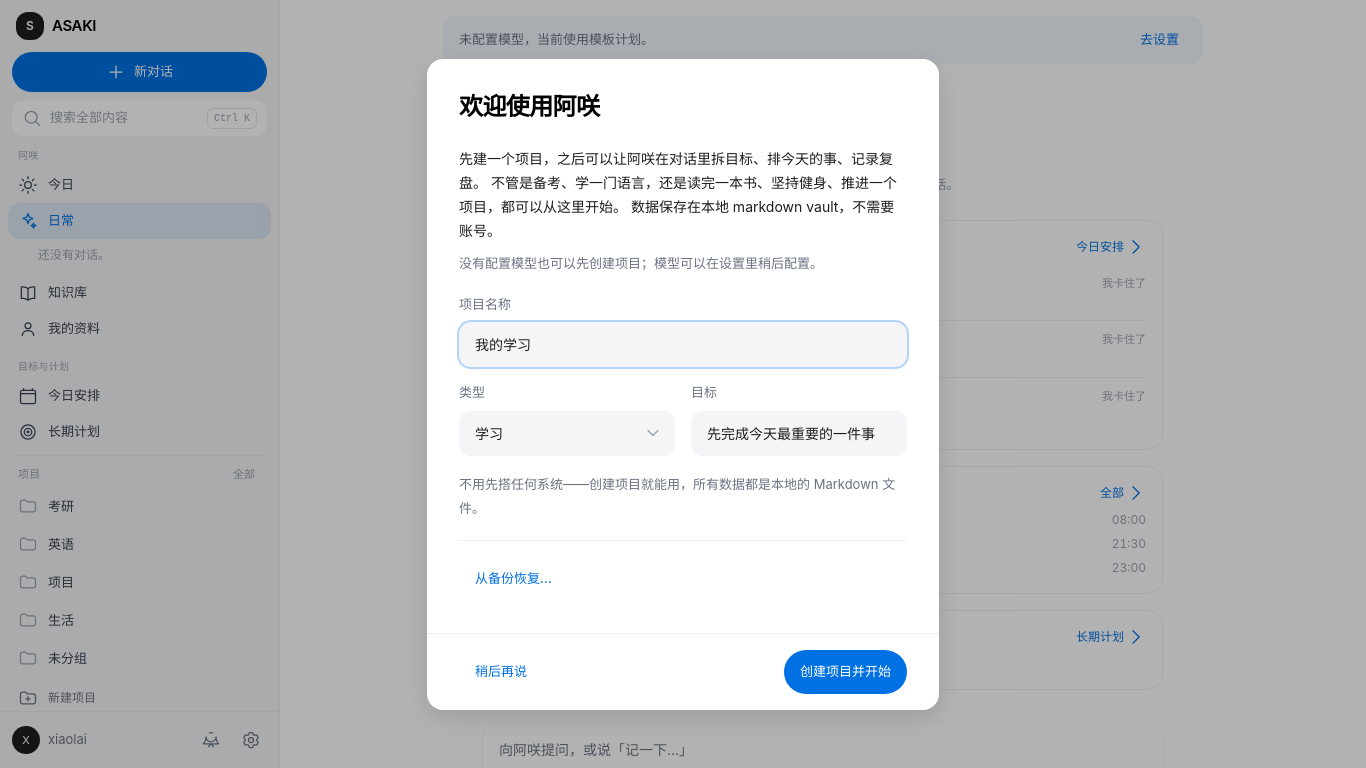
Test: creates the first workspace without requiring a model
Expected: the heading "欢迎使用阿咲" is shown, [459,92,599,120]
Replace the text in the field labelled "项目名称" with "我的项目". click: point(683, 344)
box: [459,322,907,367]
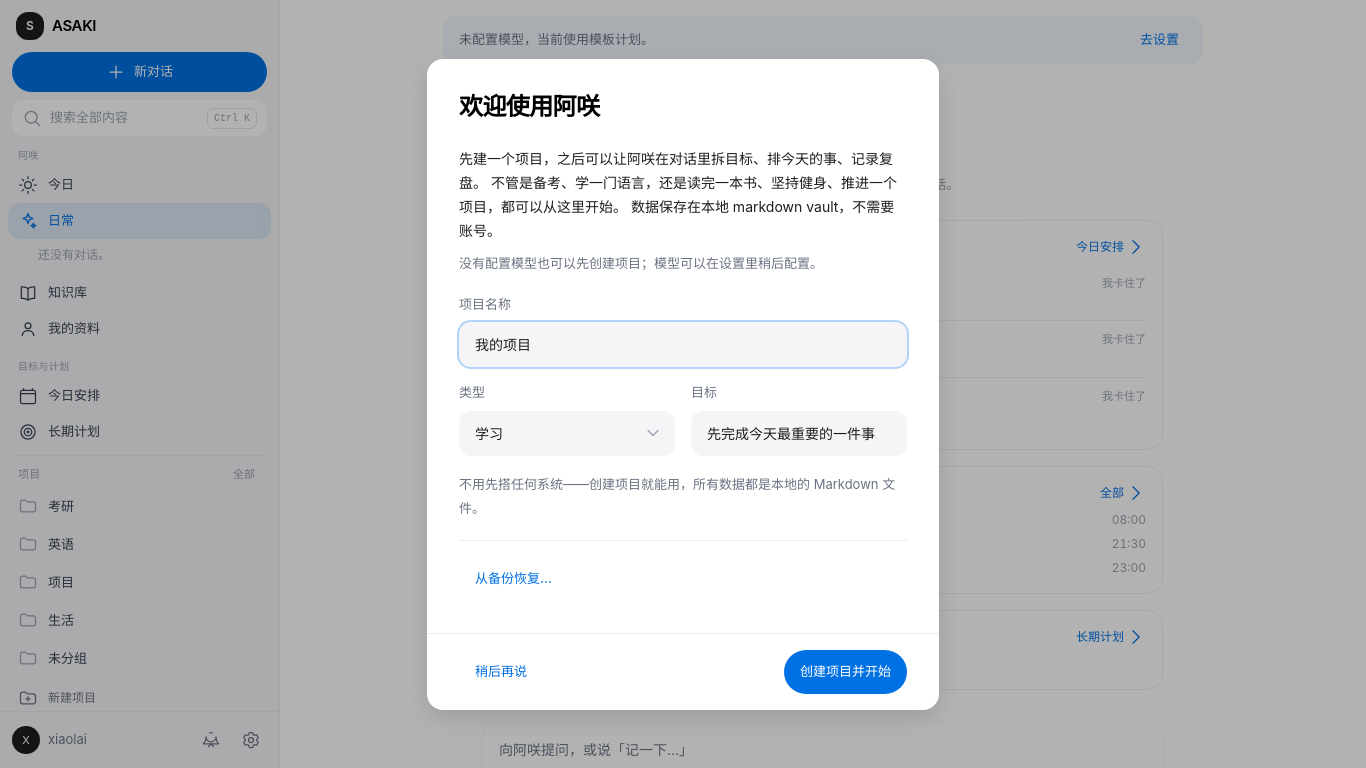
Click the button "创建项目并开始". click: point(846, 672)
box: [784,650,907,694]
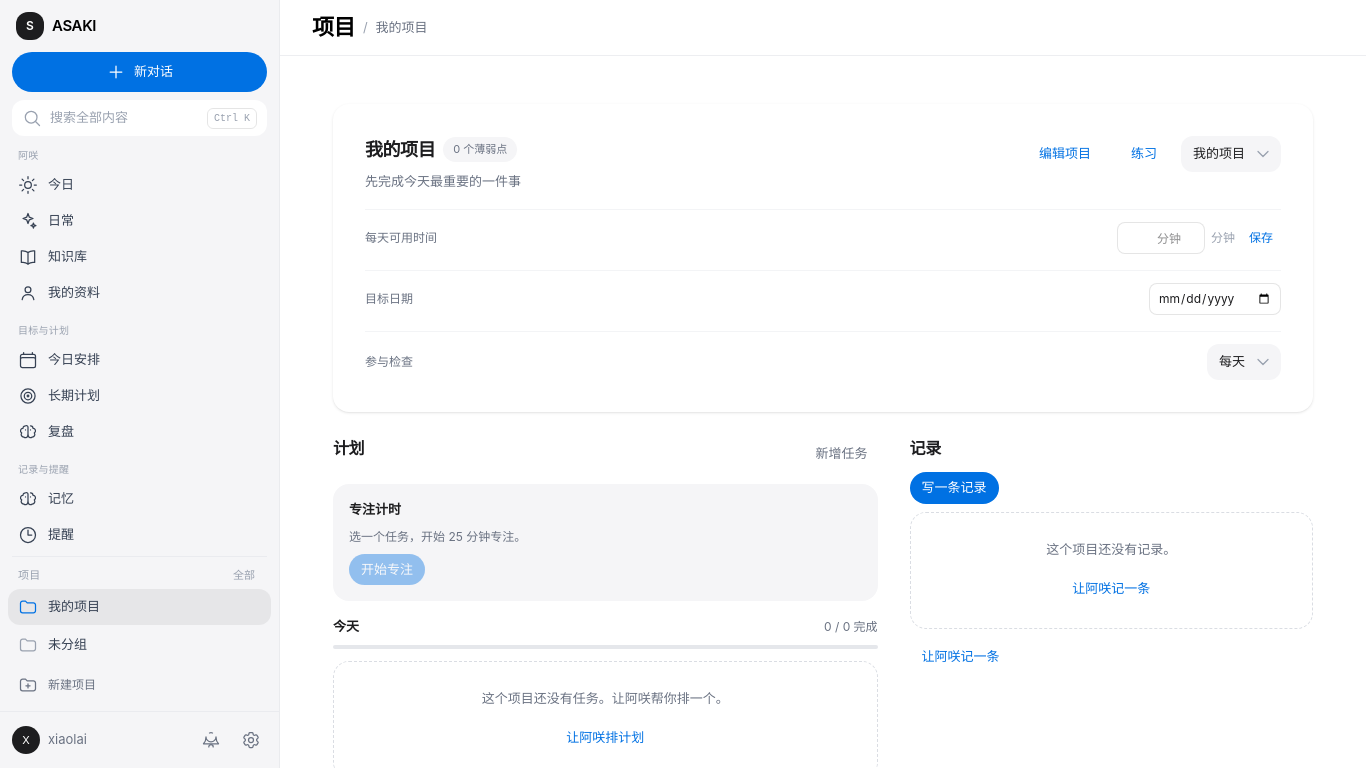
Result: the heading "欢迎使用阿咲" is gone
Result: the text "我的项目" below "记录与提醒" is shown at [48,598,100,614]
